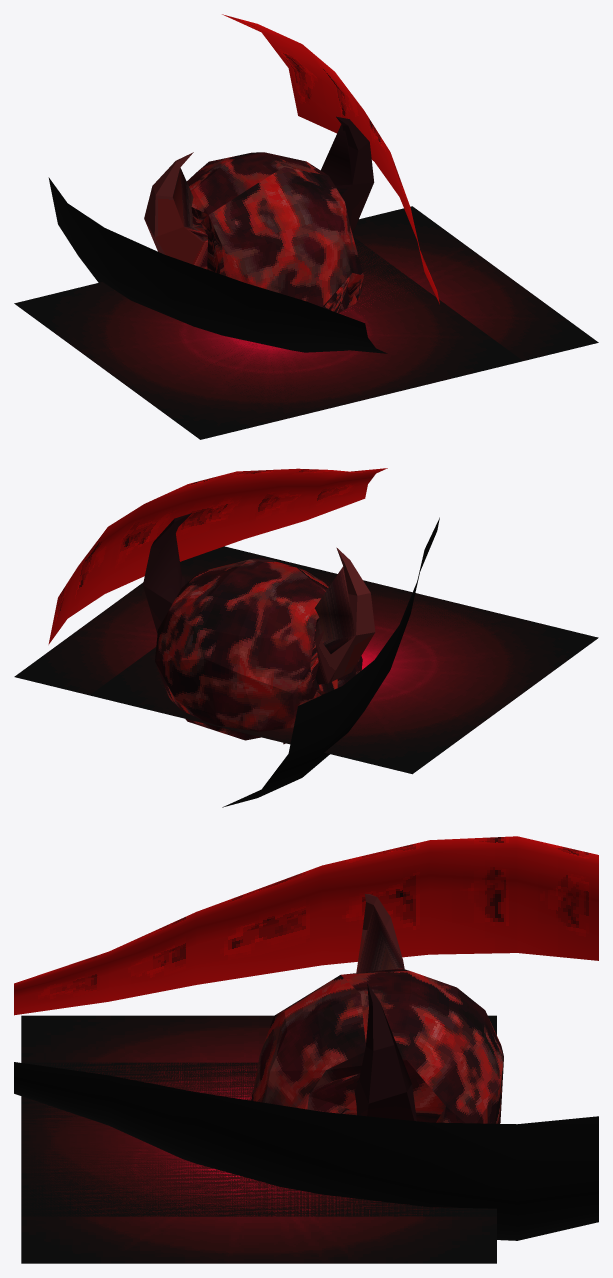
The model's file is item_flamethrower_skull_blood.glb.
3 renders of one model, top to bottom at view 1: azimuth 30°, elevation 25°; view 2: azimuth 150°, elevation 25°; view 3: azimuth 270°, elevation 25°, orthographic. The views are drawn at different scales.
Parts seen in each view (by area): view 1: Quad (×2), RubySkull, FireMesh; view 2: Quad (×2), RubySkull, FireMesh; view 3: FireMesh, Quad (×2), RubySkull.
Part boxes in pixels (x1,y1,x2,y2): Quad (×2): (14, 206, 598, 439); RubySkull: (144, 116, 374, 313); FireMesh: (48, 14, 439, 353); Quad (×2): (14, 546, 598, 774); RubySkull: (143, 513, 375, 744); FireMesh: (48, 468, 439, 807); FireMesh: (14, 836, 598, 1240); Quad (×2): (21, 1015, 496, 1263); RubySkull: (251, 894, 503, 1123).
Size of the model in its own units: 0.4936 by 0.3637 by 0.4921.
3 materials, 3 textured.
